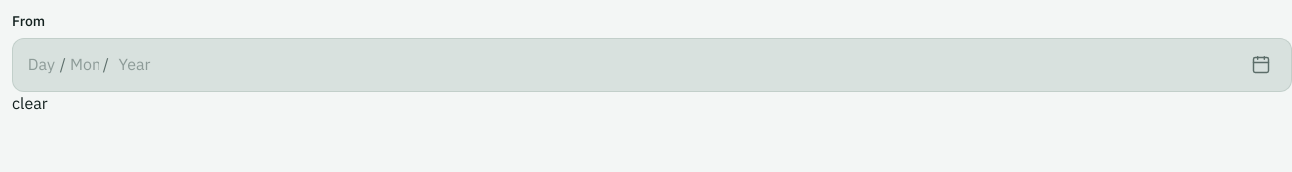
DateInput › a date that does not exist (31 February) gives no value
In the field labelled "From": (41, 65) [27,53,56,77], type "31022026"
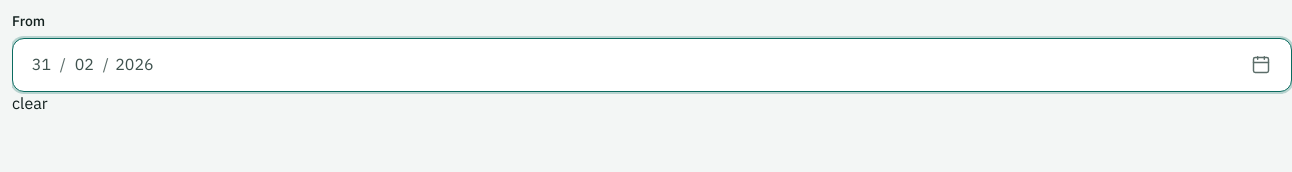
Expected: the field labelled "From" holds "31", [27,53,56,77]
